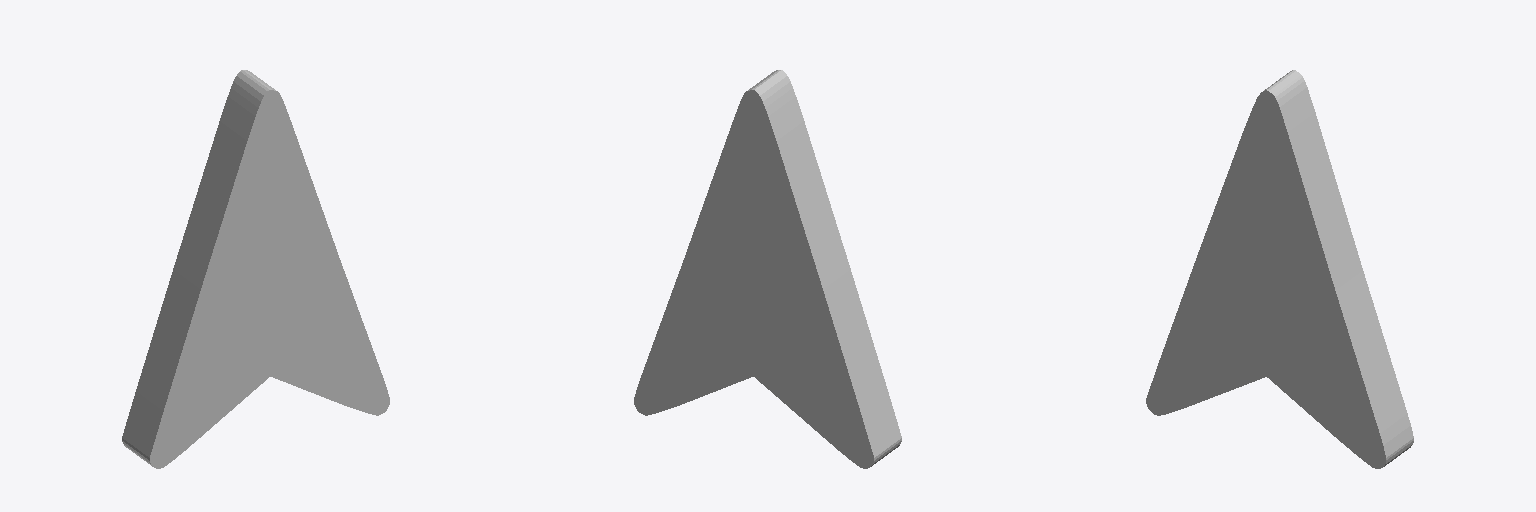
File: arrow_stylish.obj
3 renders of one model, left to right at view 1: azimuth 30°, elevation 25°; view 2: azimuth 150°, elevation 25°; view 3: azimuth 330°, elevation 25°, orthographic.
Parts seen in each view (by area): view 1: icon_positionArrow.001_icon_positionArrow; view 2: icon_positionArrow.001_icon_positionArrow; view 3: icon_positionArrow.001_icon_positionArrow.
Part boxes in pixels (x1,y1,x2,y2): icon_positionArrow.001_icon_positionArrow: (122,70,389,468); icon_positionArrow.001_icon_positionArrow: (634,70,901,468); icon_positionArrow.001_icon_positionArrow: (1146,70,1413,468).
Bounding box in the file's own units: 0.3 × 0.42 × 0.06.